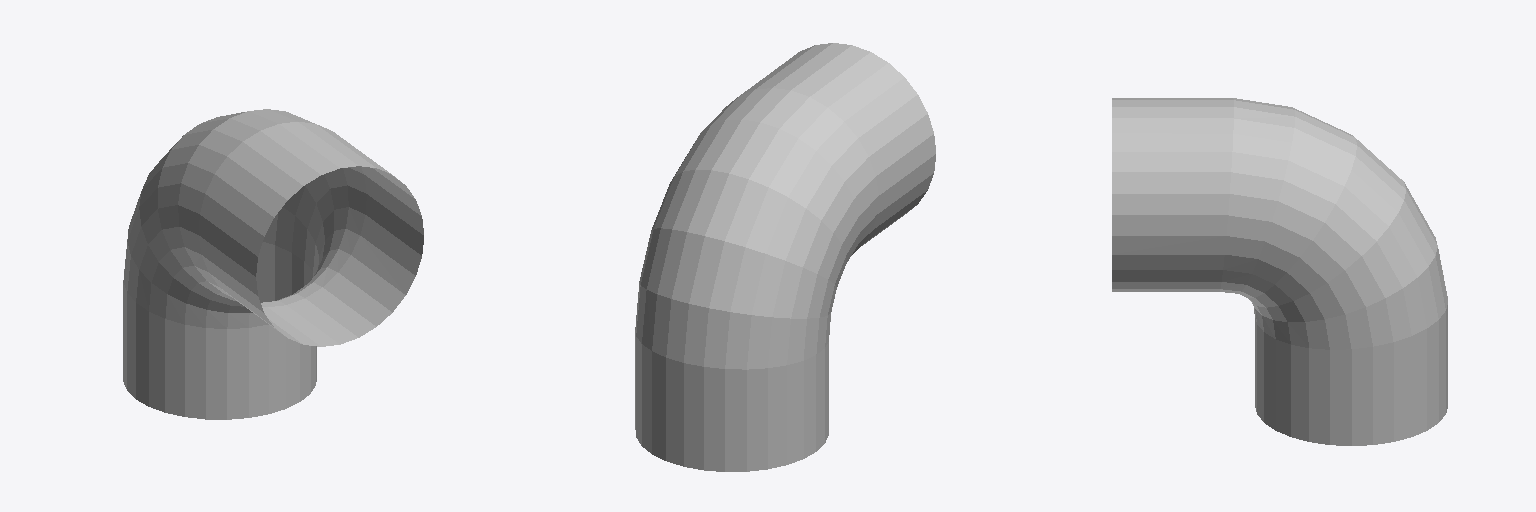
The model's file is HALF_TUBEINSIDE.obj.
3 views of the same model, side by side, from view 1: azimuth 30°, elevation 25°; view 2: azimuth 150°, elevation 25°; view 3: azimuth 270°, elevation 25° (orthographic).
Parts seen in each view (by area): view 1: HALF_TUBEINSIDE; view 2: HALF_TUBEINSIDE; view 3: HALF_TUBEINSIDE.
Part boxes in pixels (left/top/right/bottom): HALF_TUBEINSIDE: left=123, top=109, right=423, bottom=419; HALF_TUBEINSIDE: left=635, top=43, right=935, bottom=471; HALF_TUBEINSIDE: left=1112, top=98, right=1447, bottom=445.
Size of the model in its own units: 3.18 by 5.38 by 5.51.